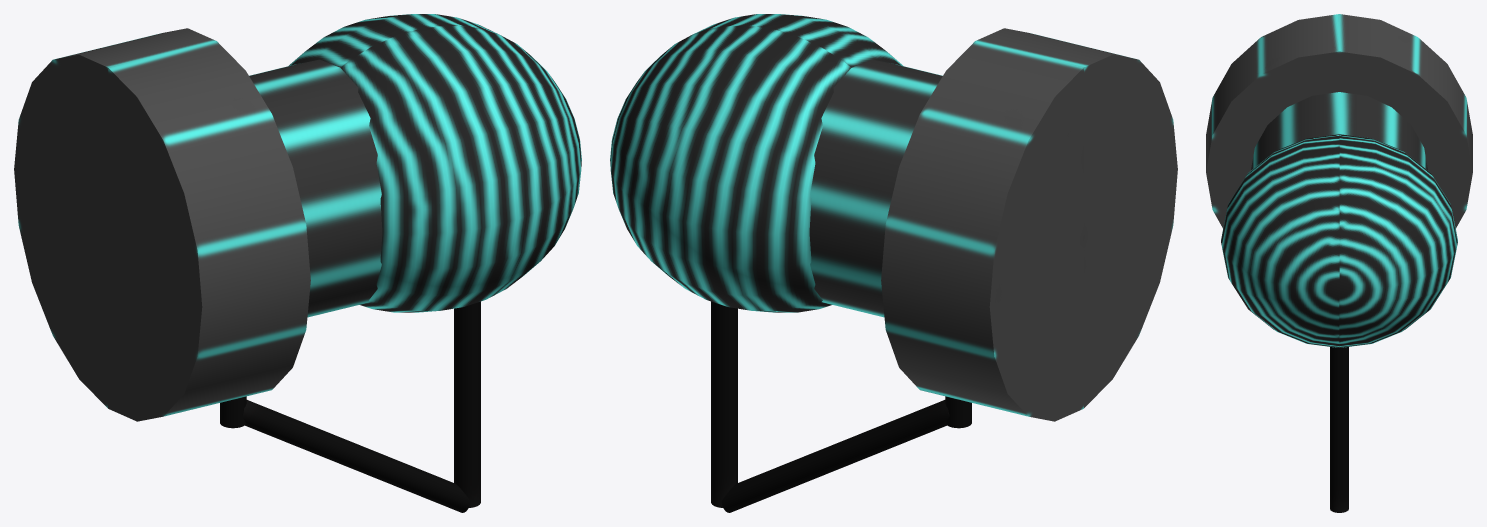
File: grapplinghook.fbx
The picture shows the model from 3 angles, left to right: view 1: azimuth 30°, elevation 25°; view 2: azimuth 150°, elevation 25°; view 3: azimuth 270°, elevation 25°; orthographic projection. The views are drawn at different scales.
Parts seen in each view (by area): view 1: group3_pasted__pCylinder2; view 2: group3_pasted__pCylinder2; view 3: group3_pasted__pCylinder2.
Boxes of the visible parts, x1=… form: group3_pasted__pCylinder2: x1=14, y1=14, x2=581, y2=512; group3_pasted__pCylinder2: x1=610, y1=14, x2=1177, y2=512; group3_pasted__pCylinder2: x1=1206, y1=14, x2=1472, y2=512.
Bounding box in the file's own units: 0.6234 × 0.6994 × 0.45.
